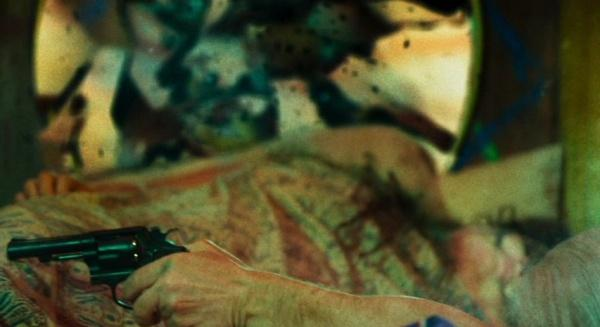Gun: (7, 226, 189, 289)
